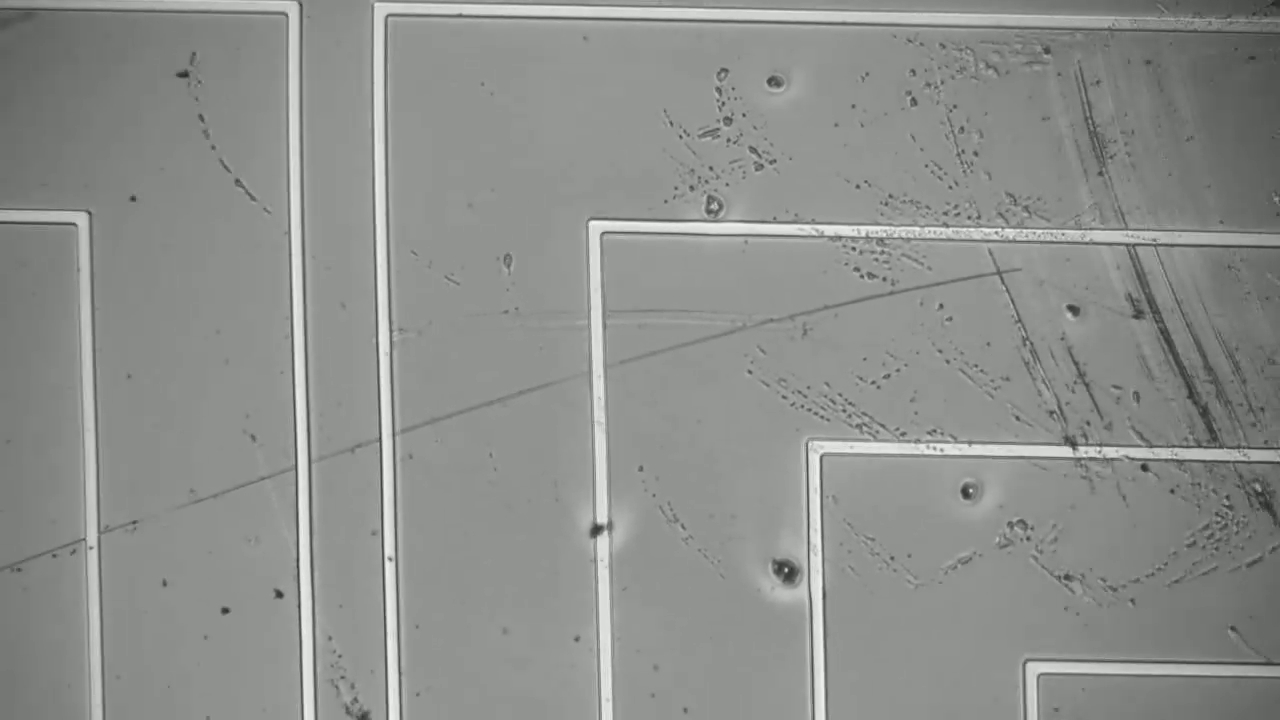scratch: (28, 266, 1007, 558), (1085, 73, 1236, 462), (951, 120, 1090, 481), (173, 75, 277, 209)
stains_enbedded: (579, 499, 623, 548)
